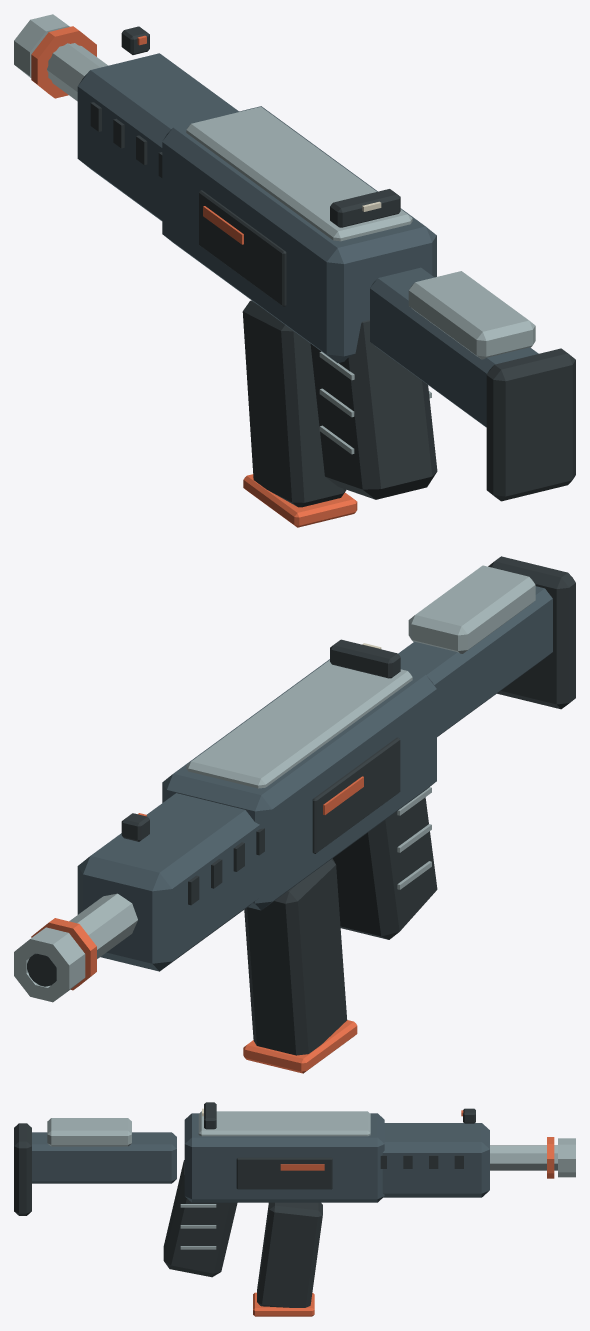
File: assault_rifle.glb
The picture shows the model from 3 angles, top to bottom: view 1: azimuth 30°, elevation 25°; view 2: azimuth 150°, elevation 25°; view 3: azimuth 270°, elevation 25°; orthographic projection. The views are drawn at different scales.
Visible parts, largest first — view 1: assault_rifle_receiver, assault_rifle_grip, assault_rifle_handguard, assault_rifle_magazine, assault_rifle_stock_pad, assault_rifle_upper_spine, assault_rifle_stock_neck, assault_rifle_stock_cheek, assault_rifle_side_panel, assault_rifle_magazine_base, assault_rifle_barrel, assault_rifle_muzzle_collar (+2 smaller); view 2: assault_rifle_handguard, assault_rifle_receiver, assault_rifle_magazine, assault_rifle_upper_spine, assault_rifle_grip, assault_rifle_stock_neck, assault_rifle_stock_cheek, assault_rifle_stock_pad, assault_rifle_side_panel, assault_rifle_muzzle, assault_rifle_barrel, assault_rifle_magazine_base (+4 smaller); view 3: assault_rifle_receiver, assault_rifle_handguard, assault_rifle_stock_neck, assault_rifle_magazine, assault_rifle_grip, assault_rifle_upper_spine, assault_rifle_side_panel.001, assault_rifle_stock_cheek, assault_rifle_stock_pad, assault_rifle_barrel, assault_rifle_magazine_base, assault_rifle_muzzle (+3 smaller).
Boxes of the visible parts, x1,y1,x2,y2 form: assault_rifle_receiver: (162, 106, 436, 362); assault_rifle_grip: (310, 320, 437, 499); assault_rifle_handguard: (77, 53, 238, 220); assault_rifle_magazine: (242, 300, 346, 507); assault_rifle_stock_pad: (486, 348, 575, 501); assault_rifle_upper_spine: (186, 107, 412, 241); assault_rifle_stock_neck: (370, 267, 538, 427); assault_rifle_stock_cheek: (408, 271, 535, 359); assault_rifle_side_panel: (199, 190, 286, 306); assault_rifle_magazine_base: (243, 474, 357, 527); assault_rifle_barrel: (47, 43, 107, 101); assault_rifle_muzzle_collar: (31, 26, 96, 98); assault_rifle_handguard: (77, 793, 259, 971); assault_rifle_receiver: (162, 659, 436, 910); assault_rifle_magazine: (244, 858, 347, 1055); assault_rifle_upper_spine: (186, 660, 412, 788); assault_rifle_grip: (333, 797, 437, 939); assault_rifle_stock_neck: (398, 586, 552, 736); assault_rifle_stock_cheek: (408, 565, 535, 653); assault_rifle_stock_pad: (488, 556, 575, 709); assault_rifle_side_panel: (312, 737, 400, 853); assault_rifle_muzzle: (14, 927, 85, 1002); assault_rifle_barrel: (69, 893, 137, 958); assault_rifle_magazine_base: (243, 1020, 357, 1073); assault_rifle_receiver: (184, 1113, 384, 1202); assault_rifle_handguard: (382, 1123, 489, 1197); assault_rifle_stock_neck: (32, 1132, 176, 1183); assault_rifle_magazine: (257, 1202, 322, 1307); assault_rifle_grip: (163, 1160, 237, 1277); assault_rifle_upper_spine: (198, 1111, 370, 1136); assault_rifle_side_panel.001: (236, 1157, 332, 1189); assault_rifle_stock_cheek: (47, 1118, 131, 1146); assault_rifle_stock_pad: (14, 1123, 31, 1215); assault_rifle_barrel: (490, 1145, 557, 1170); assault_rifle_magazine_base: (253, 1292, 314, 1316); assault_rifle_muzzle: (558, 1138, 575, 1177).
Bounding box in the file's own units: 0.155 × 0.4265 × 1.1.
